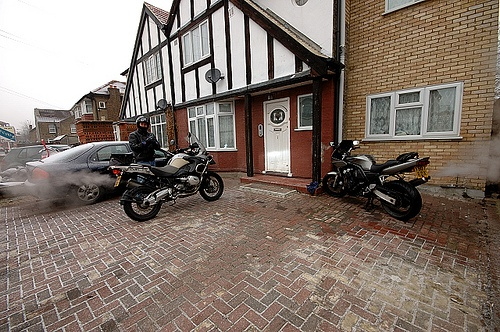non-vehicle: (107, 131, 224, 222), (322, 139, 430, 221)
